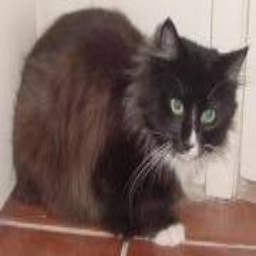cat: (9, 8, 246, 250)
